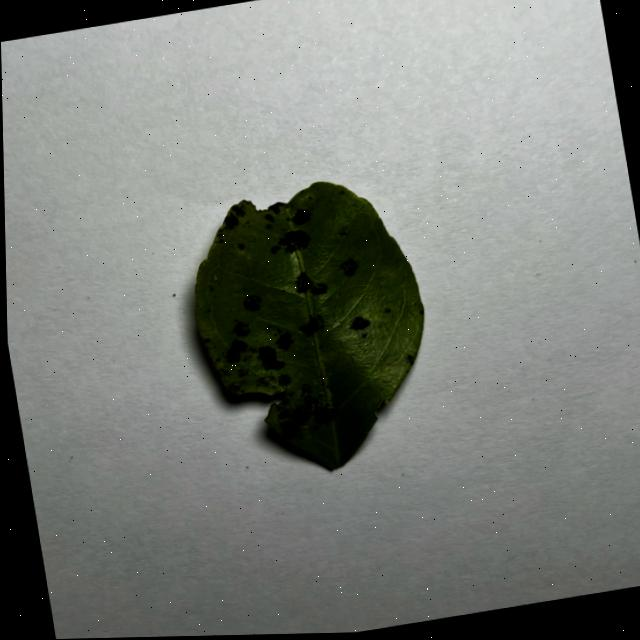sooty_mold: (196, 183, 425, 468)
